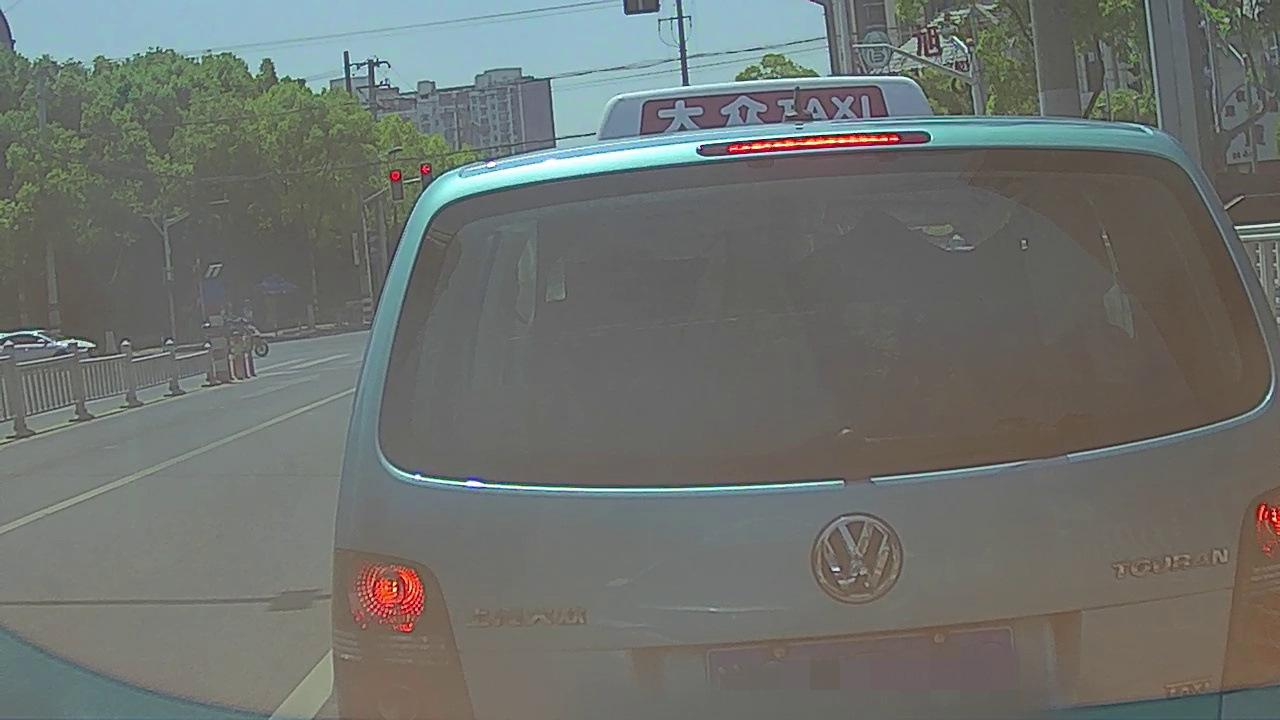traffic_light: (391, 168, 402, 200), (421, 162, 432, 186)
